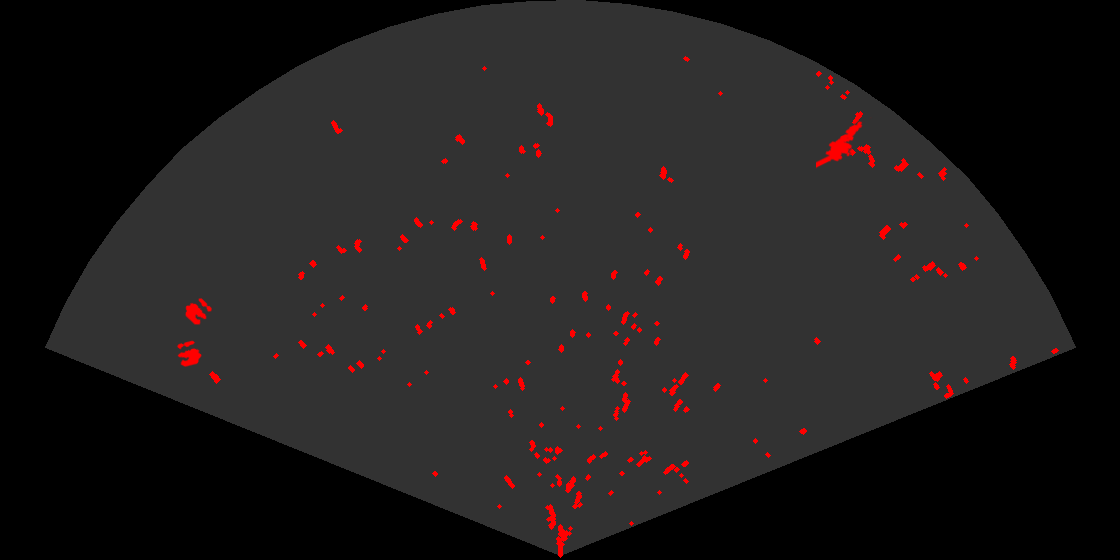ball: (184, 297, 213, 327), (175, 339, 203, 368)
frogman: (816, 117, 873, 169)
